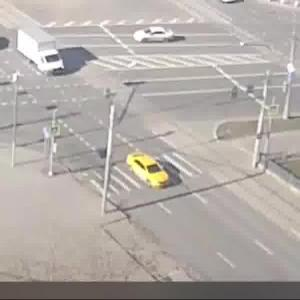car: (134, 28, 167, 45)
